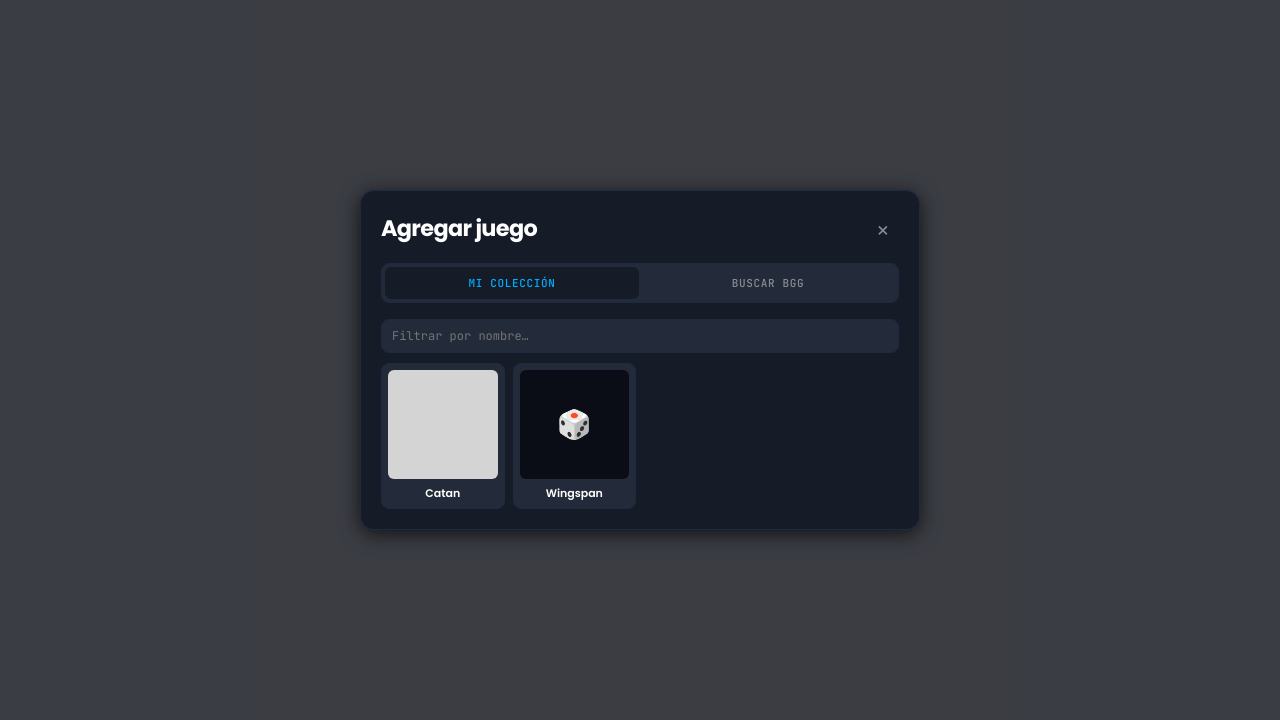
Scenario: <EventoLudotecaPicker> › switching to 'Buscar BGG' tab shows the search input
Expected: the text "Catan" is shown, [425,485,460,501]
Click the tab "Buscar BGG" at coordinates (768, 283), box [641,267,895,299]
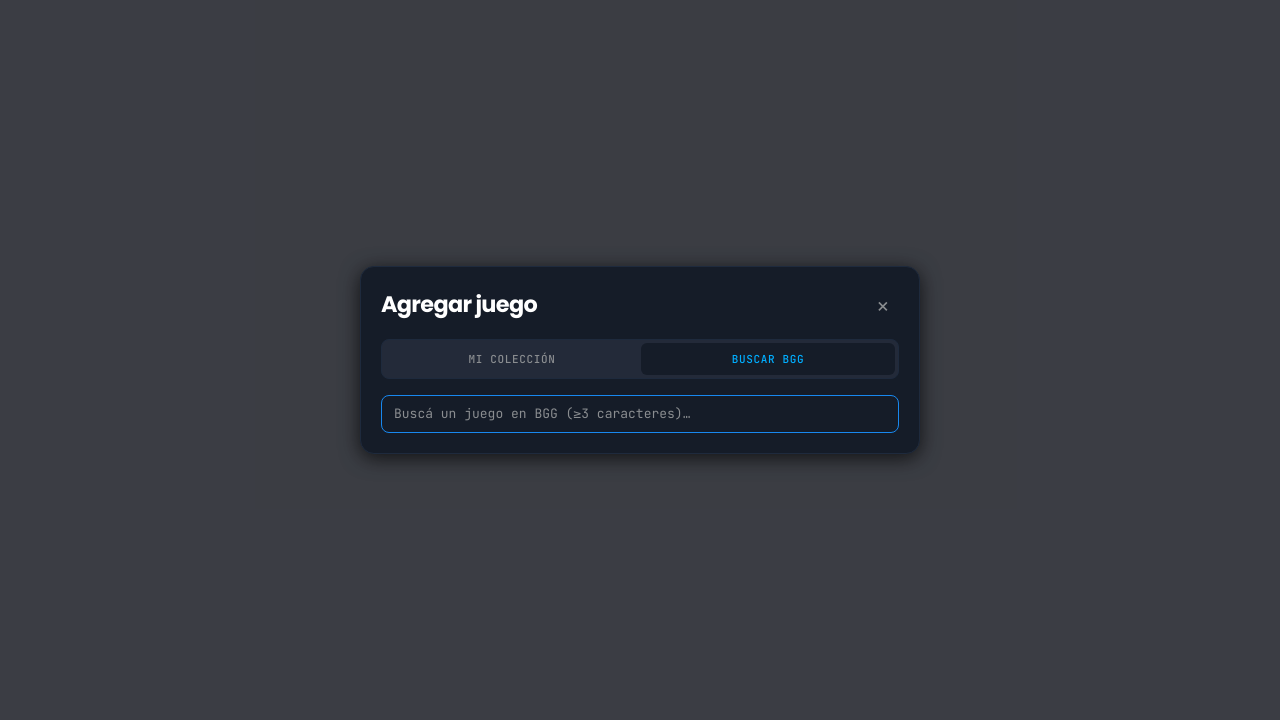
Now the field named "buscar juego en boardgame" is shown, box [381,395,899,433]
